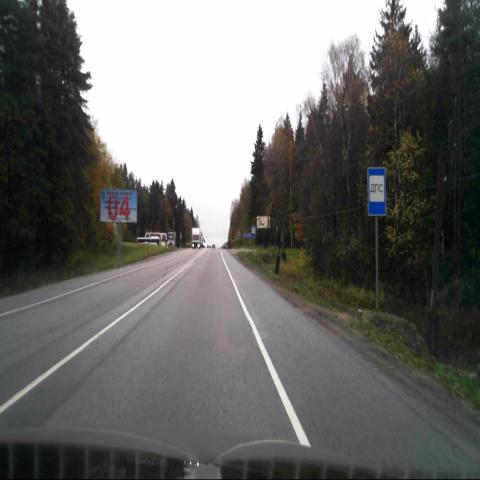7_12: (367, 167, 385, 216)
